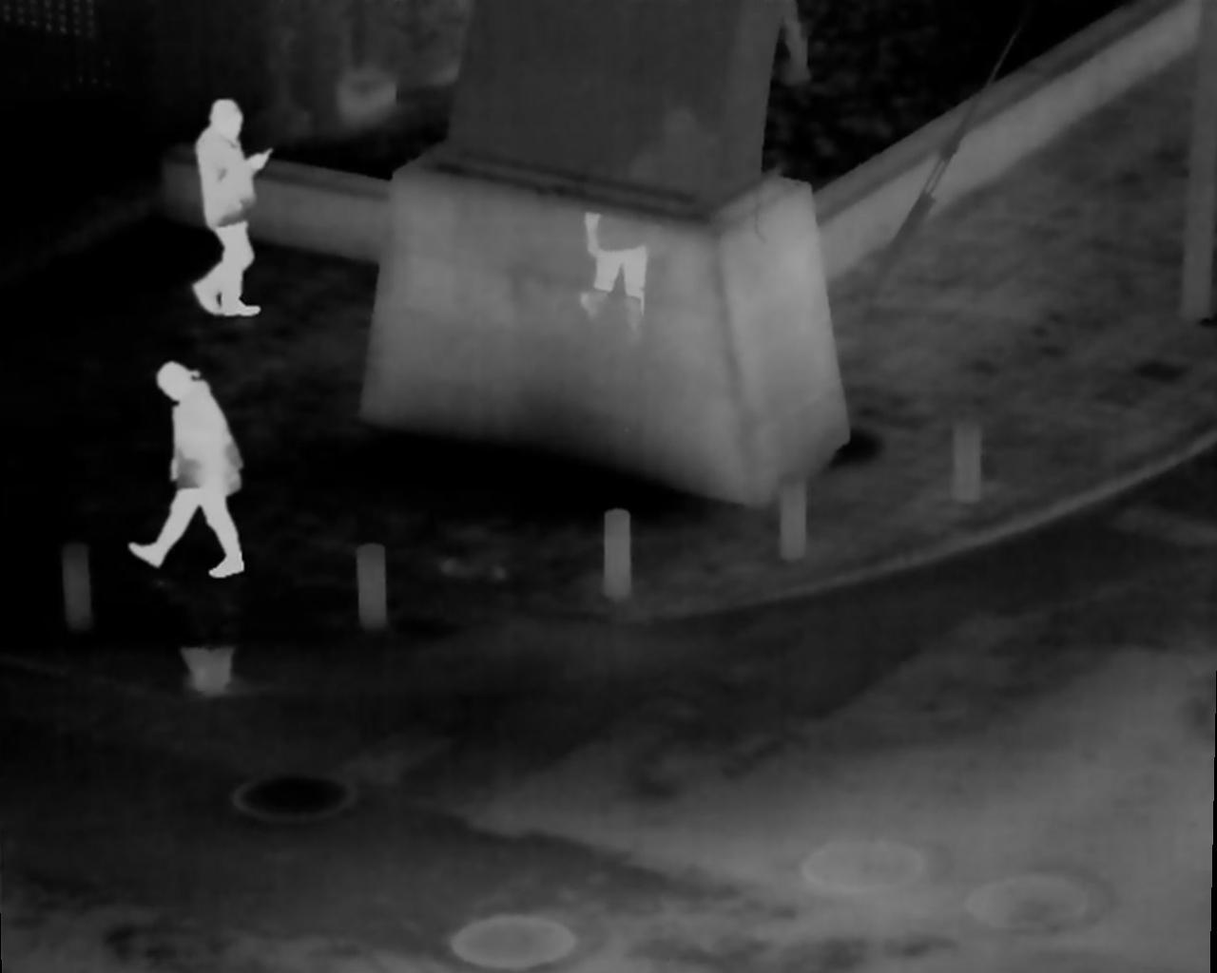person: (127, 360, 248, 580), (183, 98, 276, 318)
